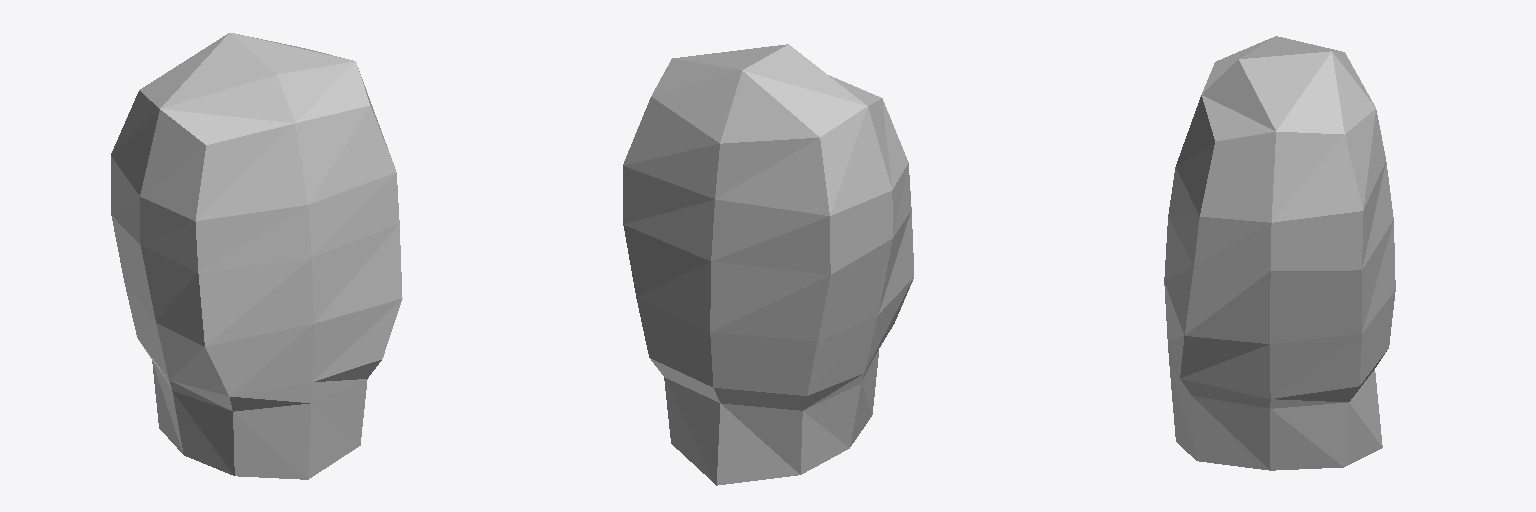
File: KnightBody.obj
The picture shows the model from 3 angles: view 1: azimuth 30°, elevation 25°; view 2: azimuth 150°, elevation 25°; view 3: azimuth 270°, elevation 25°; orthographic projection.
Parts seen in each view (by area): view 1: Cube.014; view 2: Cube.014; view 3: Cube.014.
Part boxes in pixels (x1,y1,x2,y2): Cube.014: (111, 33, 402, 479); Cube.014: (623, 44, 913, 485); Cube.014: (1164, 36, 1395, 470).
Size of the model in its own units: 2.62 by 4.26 by 2.18.